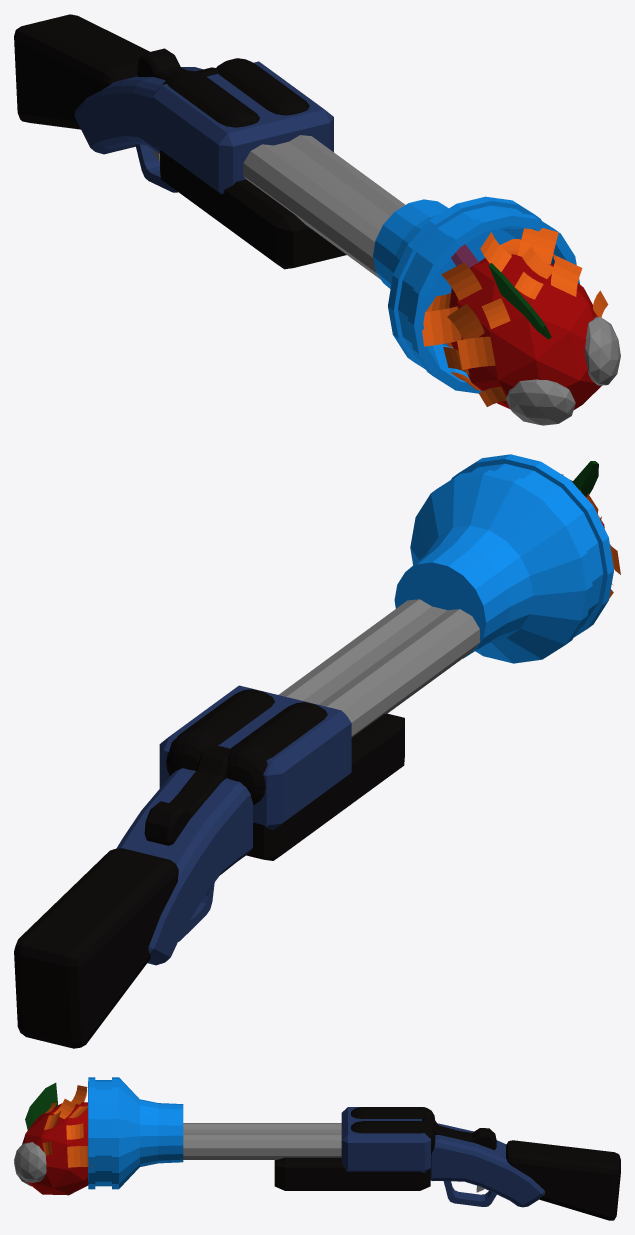
The model's file is Weapon_Shotgun_Explosif.fbx.
3 renders of one model, top to bottom at view 1: azimuth 30°, elevation 25°; view 2: azimuth 150°, elevation 25°; view 3: azimuth 270°, elevation 25°, orthographic. The views are drawn at different scales.
Visible parts, largest first — view 1: Shotgun, Module_Explosif; view 2: Shotgun, Module_Explosif; view 3: Shotgun, Module_Explosif.
Part boxes in pixels (<box>): Shotgun: <box>14,14,405,279</box>; Module_Explosif: <box>373,196,620,425</box>; Shotgun: <box>14,599,479,1048</box>; Module_Explosif: <box>394,454,620,663</box>; Shotgun: <box>183,1107,620,1220</box>; Module_Explosif: <box>14,1077,183,1195</box>.
Size of the model in its own units: 37.31 by 47.99 by 201.
